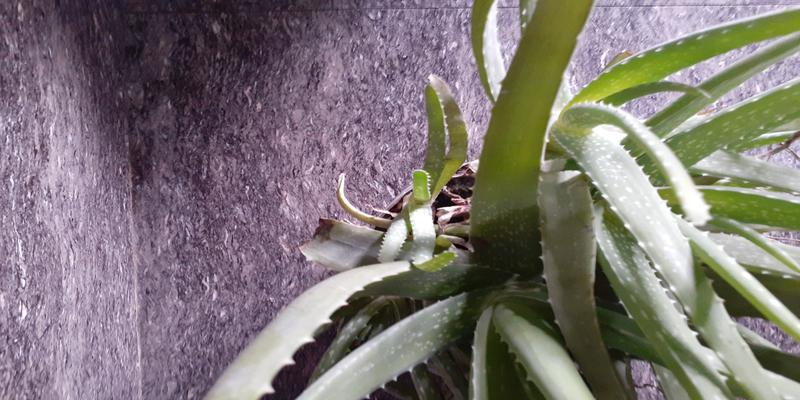Aloevera: (324, 105, 777, 389)
